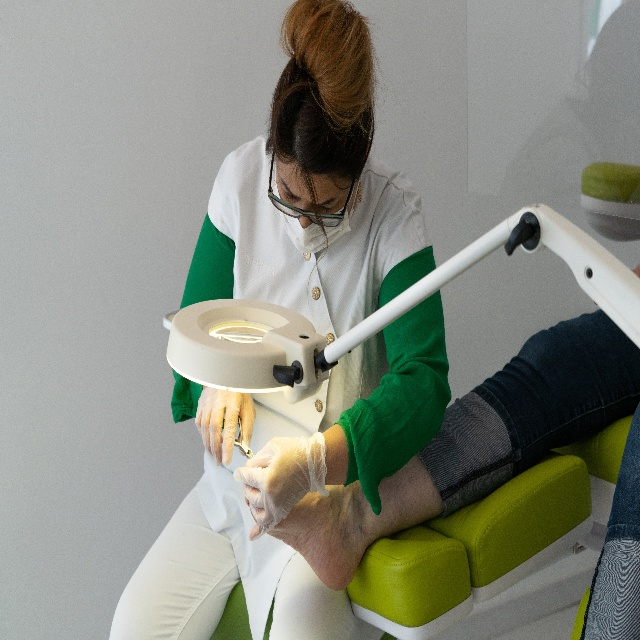Gafas: (267, 147, 355, 228)
Guantes: (233, 431, 330, 542), (195, 387, 256, 466)
Mascara: (274, 166, 361, 255)
